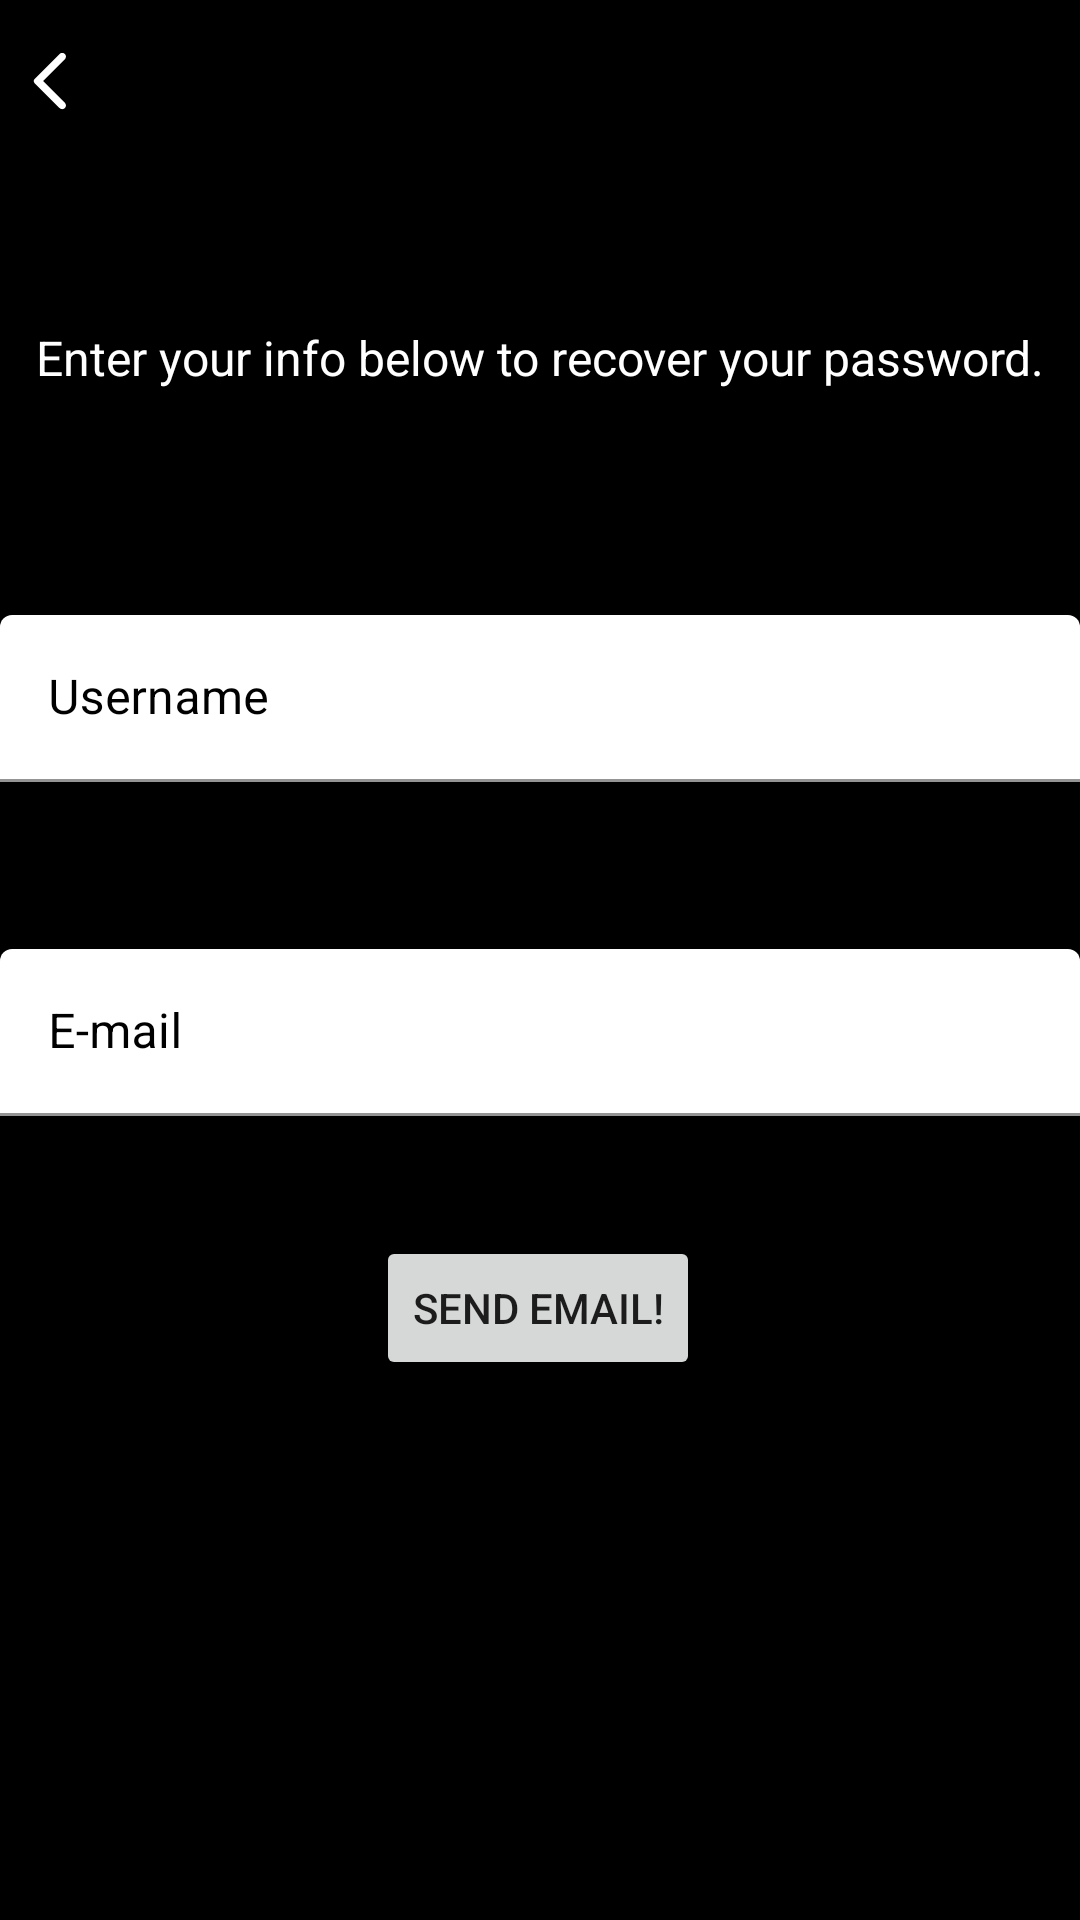

Icons on this 1080×1920 Android screen, each with its box as (x1, y1, x2, y2):
arrow back: (33, 53, 66, 110)
